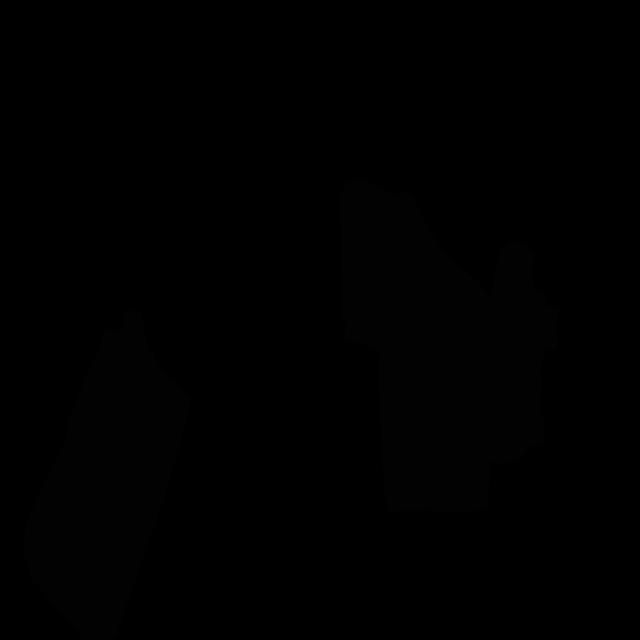cardboard: (340, 180, 561, 513), (24, 309, 190, 640)
